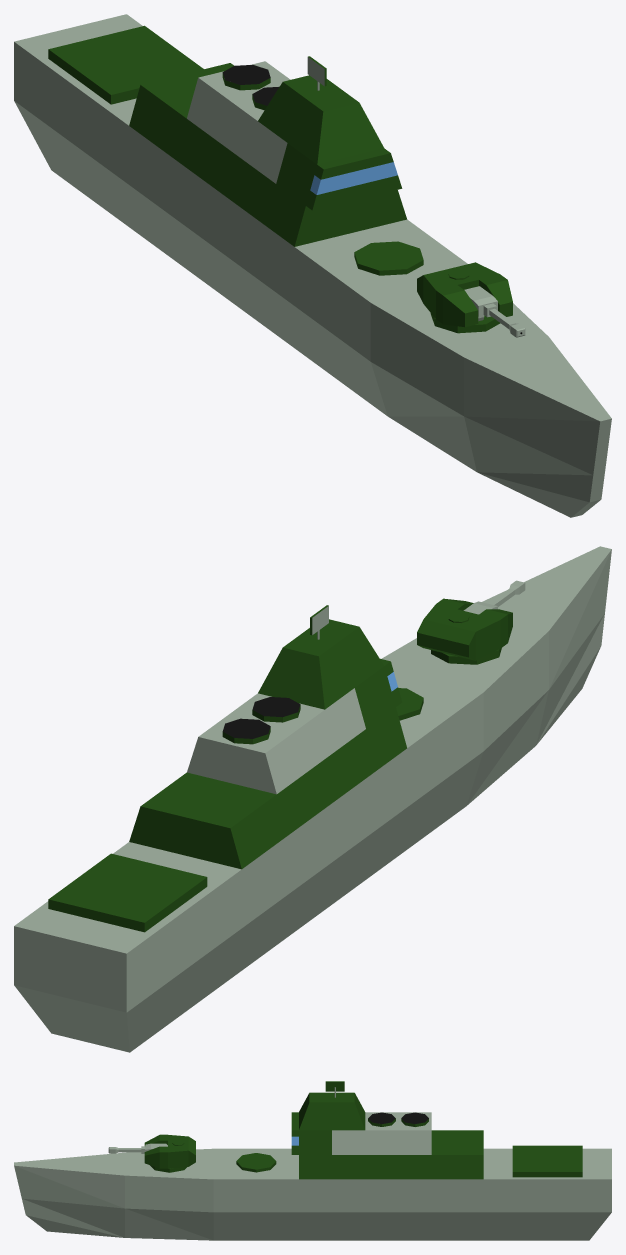
The model's file is combat_fregatte_1.DQQTM4os.glb.
3 renders of one model, top to bottom at view 1: azimuth 30°, elevation 25°; view 2: azimuth 150°, elevation 25°; view 3: azimuth 270°, elevation 25°, orthographic. The views are drawn at different scales.
Parts seen in each view (by area): view 1: base, turretbase_1_base; view 2: base, turretbase_1_base; view 3: base, turretbase_1_base.
Boxes of the visible parts, x1,y1,x2,y2 form: base: (14,14,611,517); turretbase_1_base: (417,262,512,327); base: (14,546,611,1052); turretbase_1_base: (417,598,512,660); base: (14,1092,611,1240); turretbase_1_base: (144,1134,195,1168).
Bounding box in the file's own units: 0.4636 × 1.04 × 3.81.
